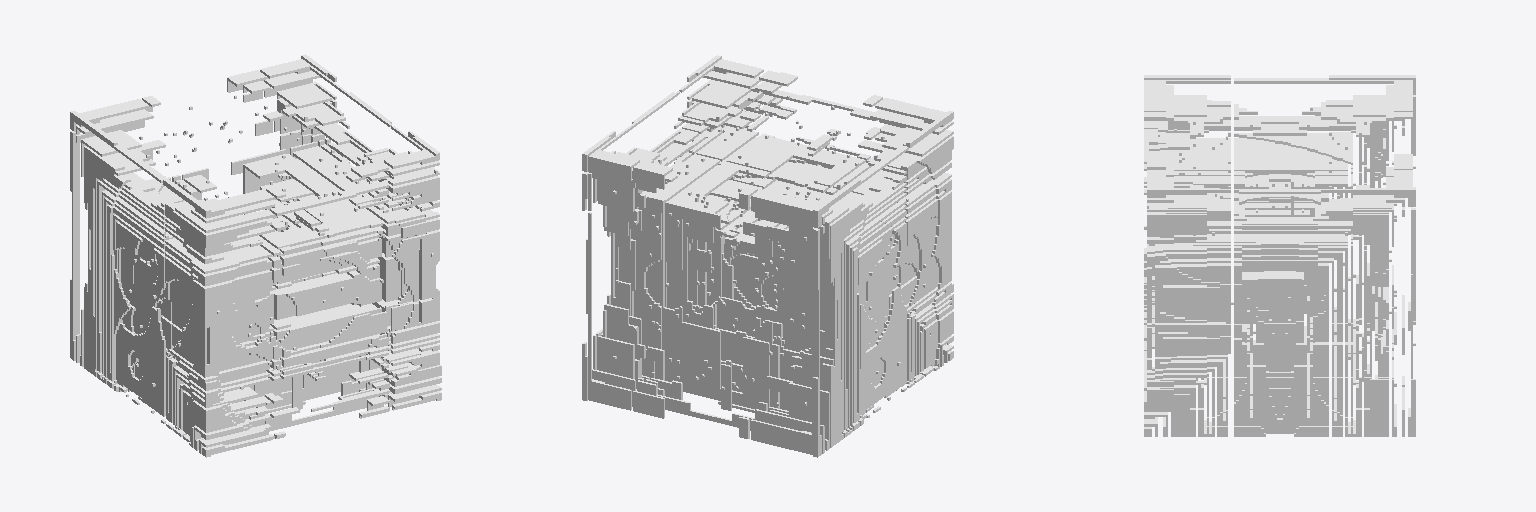
The model's file is rotbaseback1.obj.
3 views of the same model, side by side, from view 1: azimuth 30°, elevation 25°; view 2: azimuth 150°, elevation 25°; view 3: azimuth 270°, elevation 25° (orthographic).
Visible parts, largest first — view 1: object 1; view 2: object 1; view 3: object 1.
Boxes of the visible parts, x1,y1,x2,y2 form: object 1: [70, 54, 441, 457]; object 1: [582, 55, 953, 457]; object 1: [1144, 75, 1415, 436].
Bounding box in the file's own units: 10 × 10 × 10.